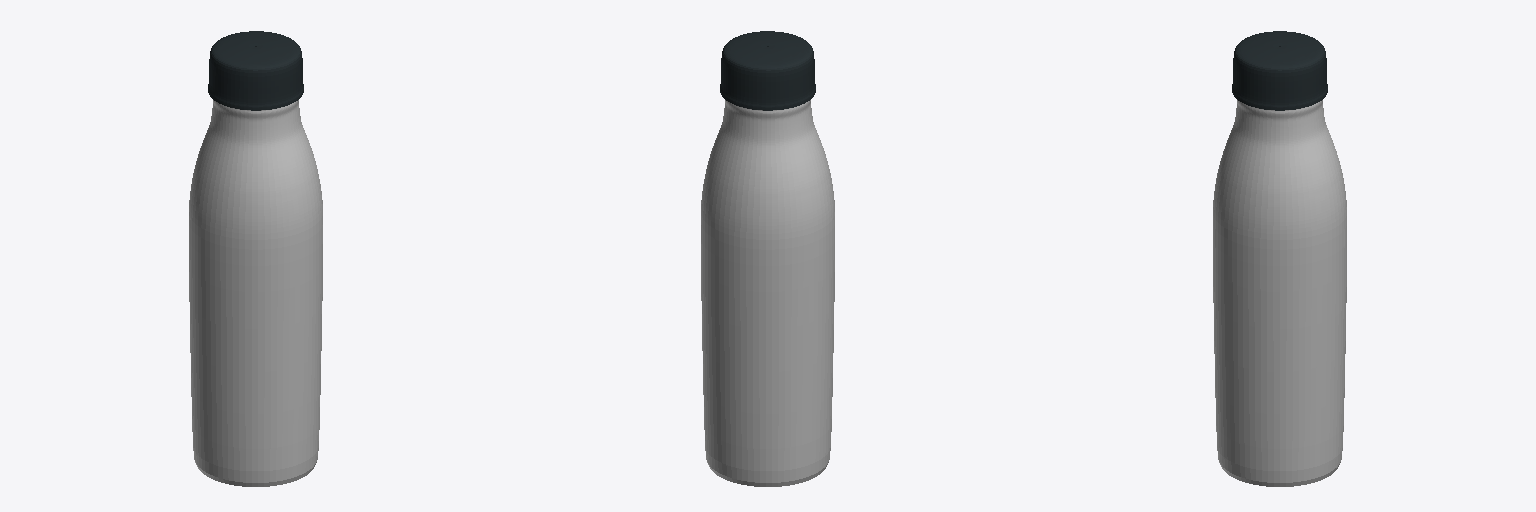
Rendered from garrafa1.obj.
3 renders of one model, left to right at view 1: azimuth 30°, elevation 25°; view 2: azimuth 150°, elevation 25°; view 3: azimuth 270°, elevation 25°, orthographic.
Visible parts, largest first — view 1: Plane.001, Plane.002; view 2: Plane.001, Plane.002; view 3: Plane.001, Plane.002.
Part boxes in pixels (x1,y1,x2,y2): Plane.001: (189, 100, 322, 486); Plane.002: (208, 31, 303, 110); Plane.001: (701, 100, 834, 486); Plane.002: (720, 31, 815, 110); Plane.001: (1213, 100, 1346, 486); Plane.002: (1232, 31, 1327, 110).
Size of the model in its own units: 1.27 by 4.35 by 1.27.